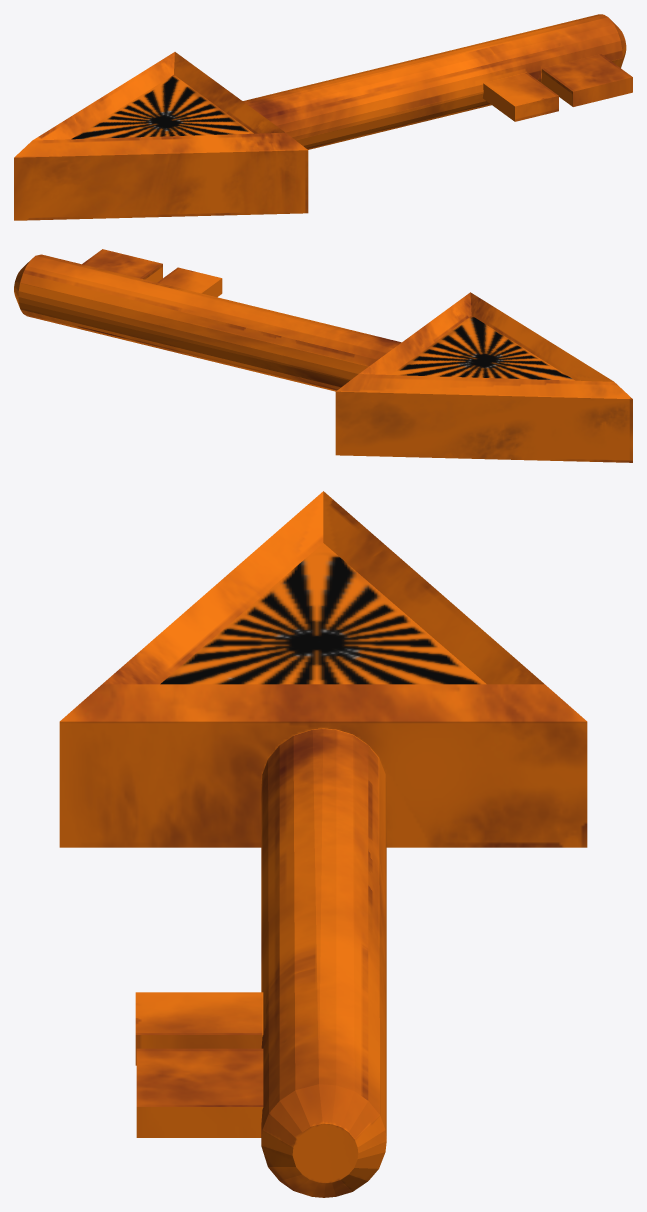
Rendered from key4.obj.
The picture shows the model from 3 angles, top to bottom: view 1: azimuth 30°, elevation 25°; view 2: azimuth 150°, elevation 25°; view 3: azimuth 270°, elevation 25°; orthographic projection. The views are drawn at different scales.
Visible parts, largest first — view 1: Cylinder.002; view 2: Cylinder.002; view 3: Cylinder.002.
Boxes of the visible parts, box(x1,y1,x2,y2) form: Cylinder.002: box(14, 14, 632, 220); Cylinder.002: box(14, 249, 632, 462); Cylinder.002: box(59, 491, 587, 1197).
Bounding box in the file's own units: 5.29 × 0.6343 × 2.
